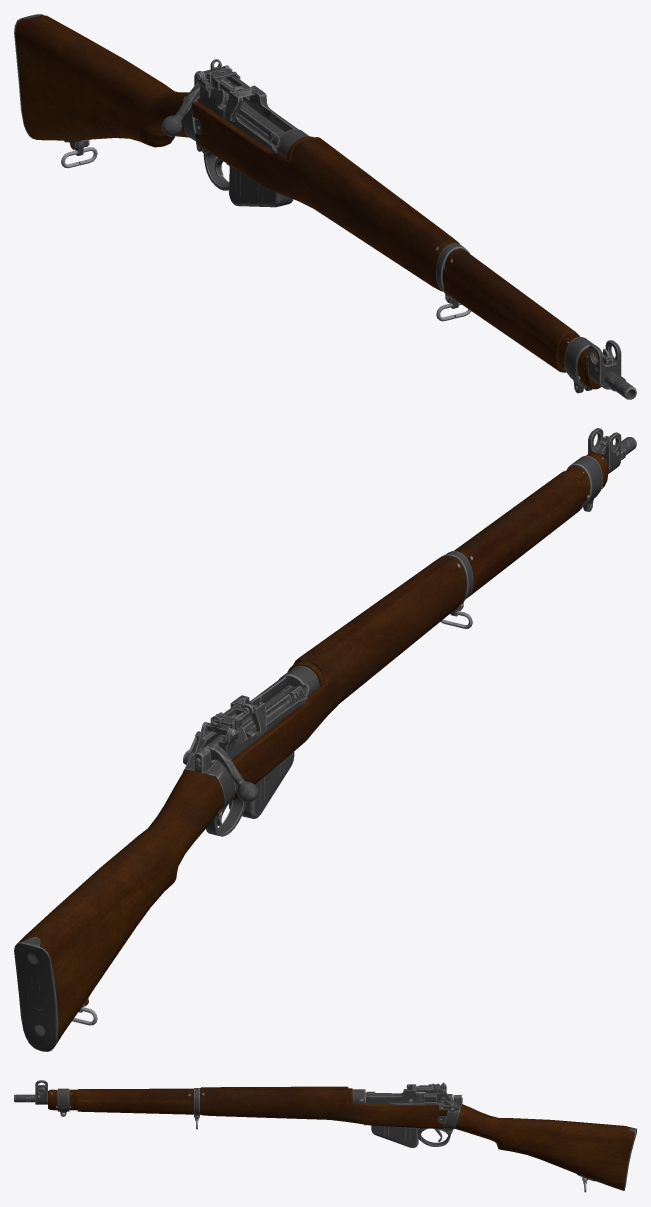
The model's file is lee_enfield_mk1.FBX.
The picture shows the model from 3 angles, top to bottom: view 1: azimuth 30°, elevation 25°; view 2: azimuth 150°, elevation 25°; view 3: azimuth 270°, elevation 25°; orthographic projection. The views are drawn at different scales.
Visible parts, largest first — view 1: Body, Bolt 1; view 2: Body, Bolt 1; view 3: Body.
Boxes of the visible parts, x1,y1,x2,y2 form: Body: (14,14,636,399); Bolt 1: (161,83,284,140); Body: (14,428,636,1051); Bolt 1: (202,692,292,802); Body: (14,1080,636,1192).
Bounding box in the file's own units: 7.87 × 22.18 × 117.
Materials: 1 (1 with a texture image).
